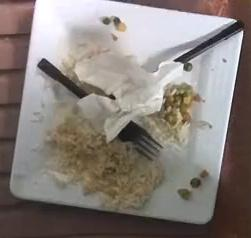peas: (164, 83, 196, 127), (190, 169, 209, 188), (177, 188, 192, 200)
rice: (45, 111, 162, 208)
